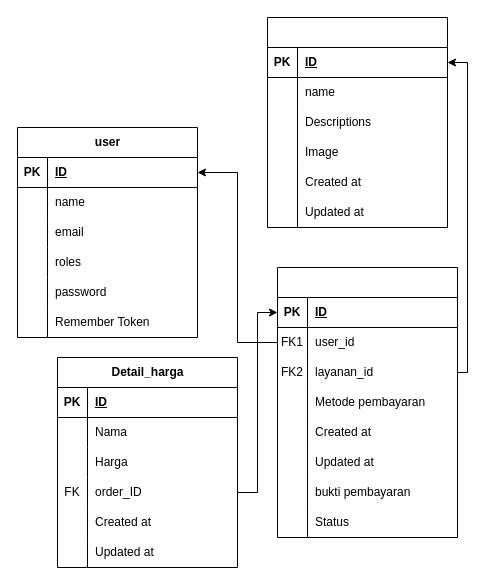
This 493x585 diagram has some shape labels left out. The box of each missing label's shape, as (x1, y1, x2, y2) in pixels:
Layanan: (266, 16, 448, 228)
order: (276, 266, 458, 538)
